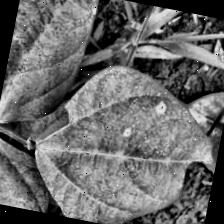Bean Rust: (21, 47, 224, 224), (0, 0, 100, 136), (0, 137, 64, 214)
